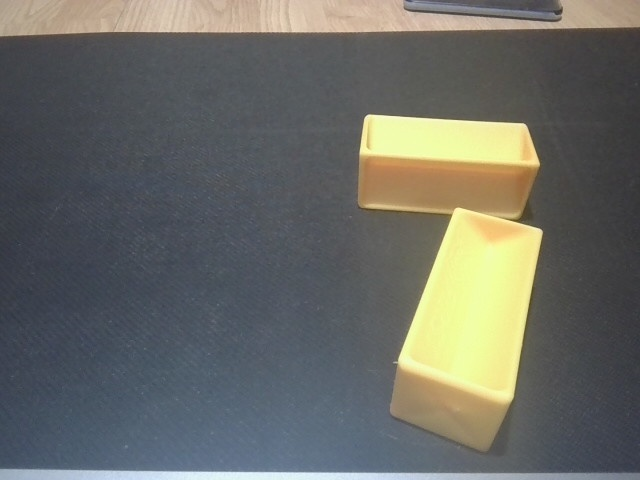YellowSample: (384, 202, 543, 455), (351, 109, 543, 220)
